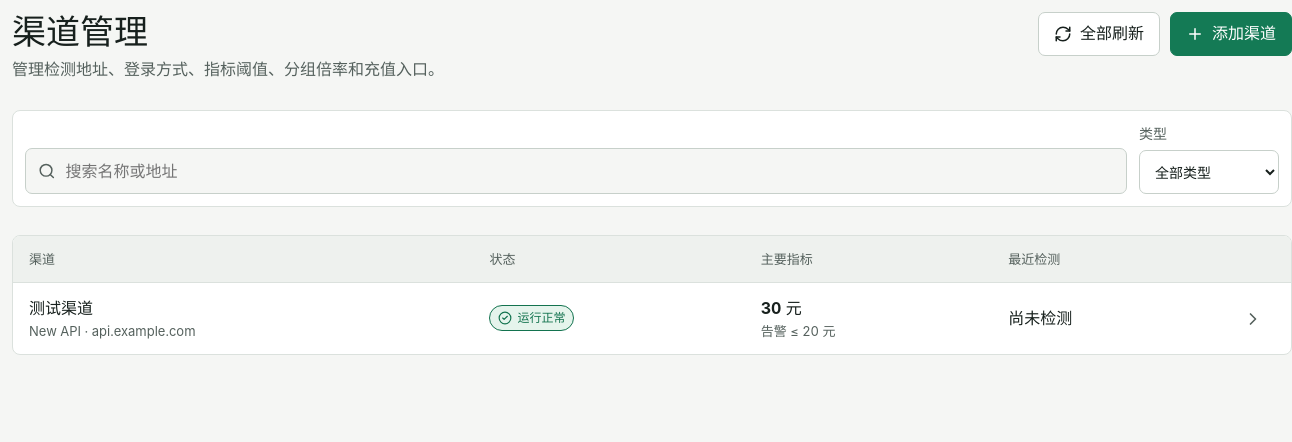
Scenario: 渠道全部刷新 › 刷新成功后给出反馈，并刷新渠道列表和仪表盘查询
The image size is (1292, 442).
Click the button "全部刷新" at (1099, 34), box [1038,12,1160,56]
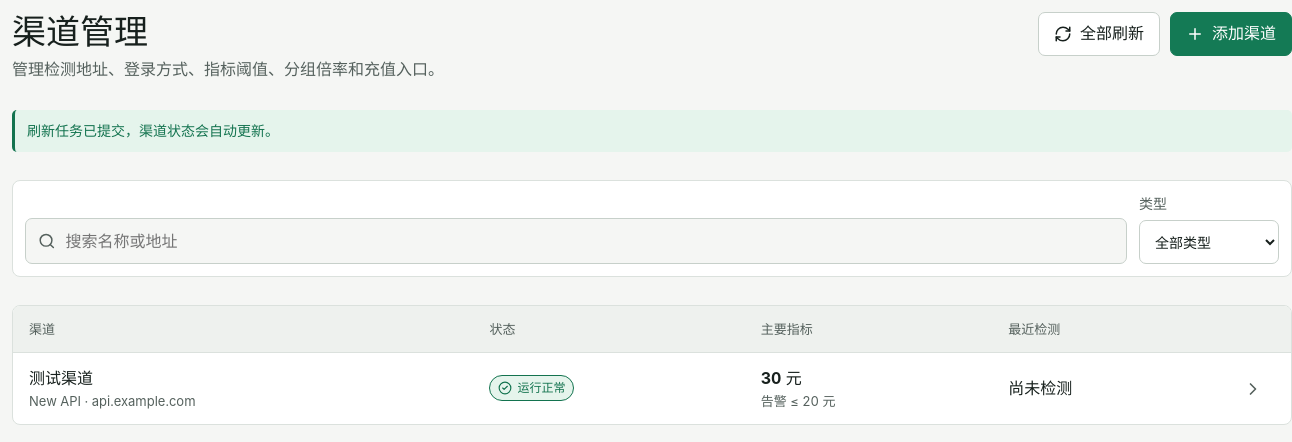
expect the message reads "刷新任务已提交，渠道状态会自动更新。": met, box [27,122,279,139]
